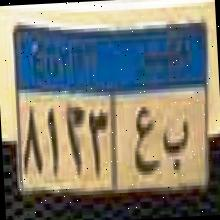1: (42, 102, 61, 182)
2: (62, 101, 88, 184)
3: (86, 107, 112, 174)
8: (20, 96, 41, 182)
ain: (131, 92, 160, 185)
baa: (160, 109, 192, 172)
